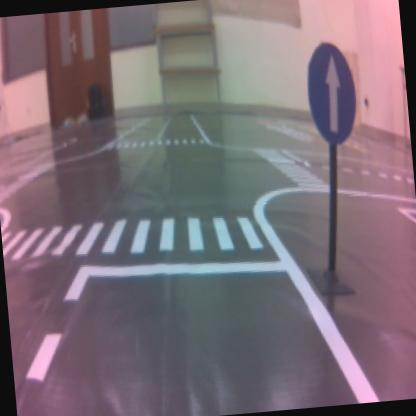bathroom sign: (308, 42, 355, 144)
